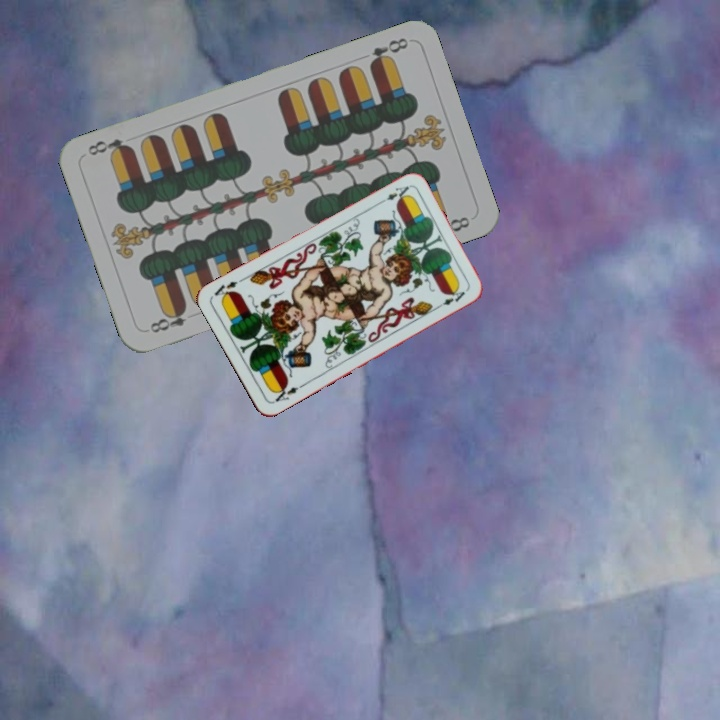E8: (365, 33, 411, 70), (143, 303, 190, 336)
EA: (374, 181, 412, 207), (269, 380, 306, 406)
